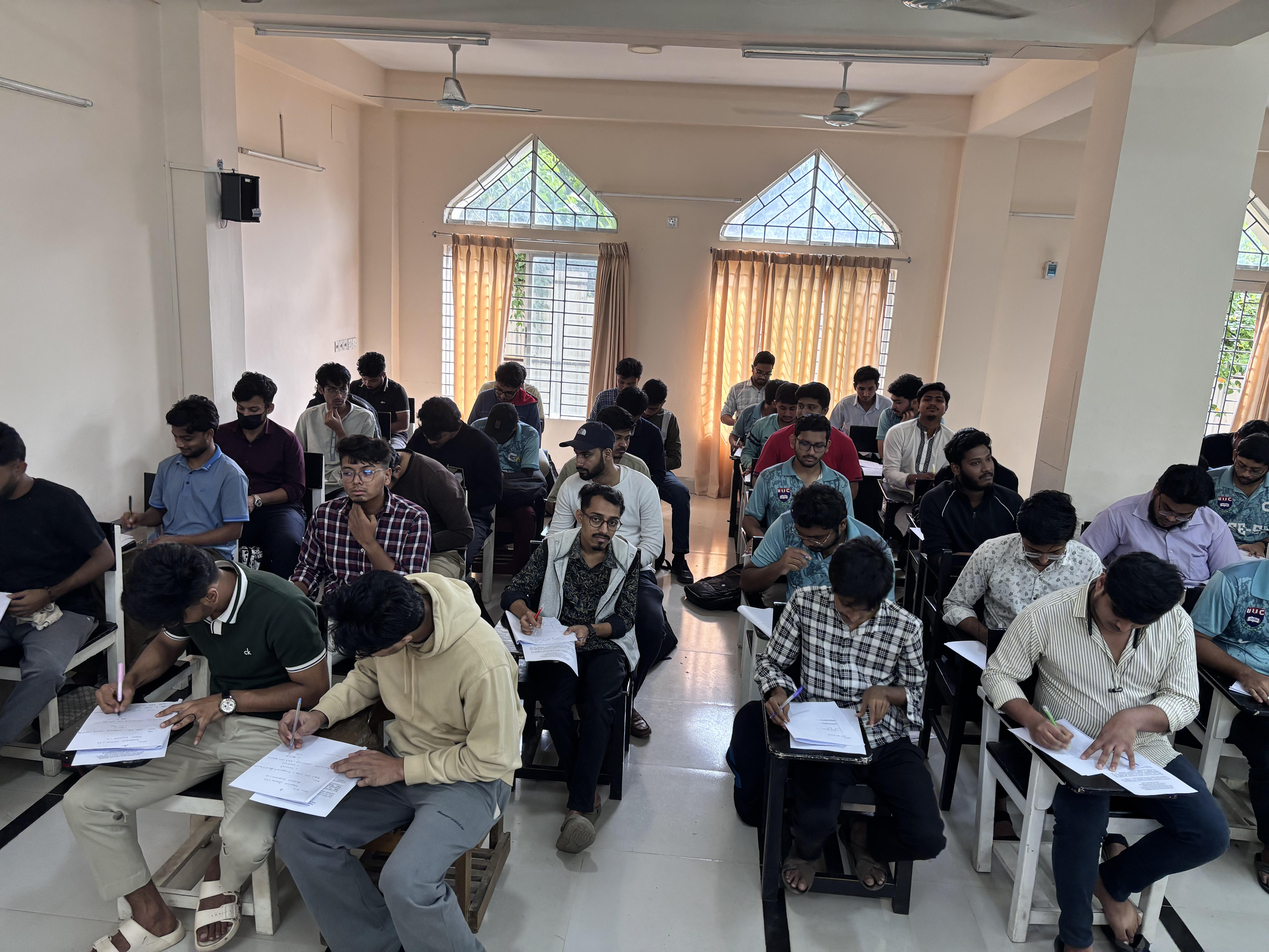copying: (535, 419, 650, 525), (573, 401, 666, 460)
no_cheating: (231, 554, 467, 862), (998, 560, 1207, 870), (766, 538, 933, 862), (81, 558, 271, 783), (952, 501, 1093, 653), (1107, 448, 1223, 567), (215, 369, 304, 496), (742, 417, 842, 507), (404, 394, 488, 474), (347, 335, 410, 417), (720, 341, 773, 419), (478, 404, 540, 470), (464, 354, 537, 410), (835, 359, 886, 422), (582, 349, 639, 396)
side_talking: (864, 374, 923, 433)
suspicious_moving: (509, 478, 658, 732), (111, 382, 242, 567), (291, 436, 428, 575), (908, 430, 1018, 526), (298, 351, 376, 451), (894, 386, 957, 464), (788, 384, 834, 424)
